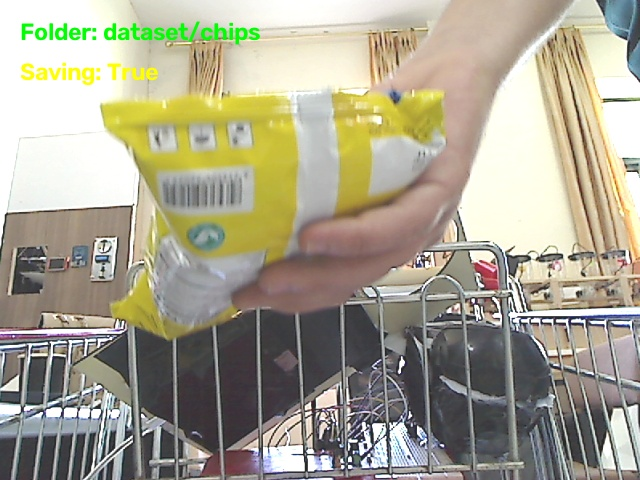chips: (102, 91, 444, 338)
